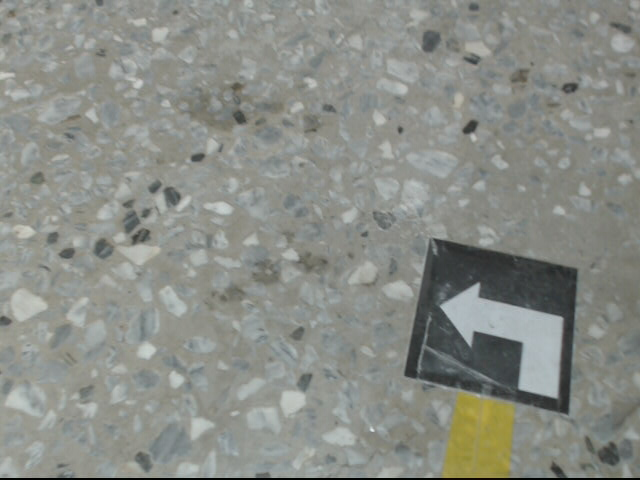left: (407, 234, 580, 413)
